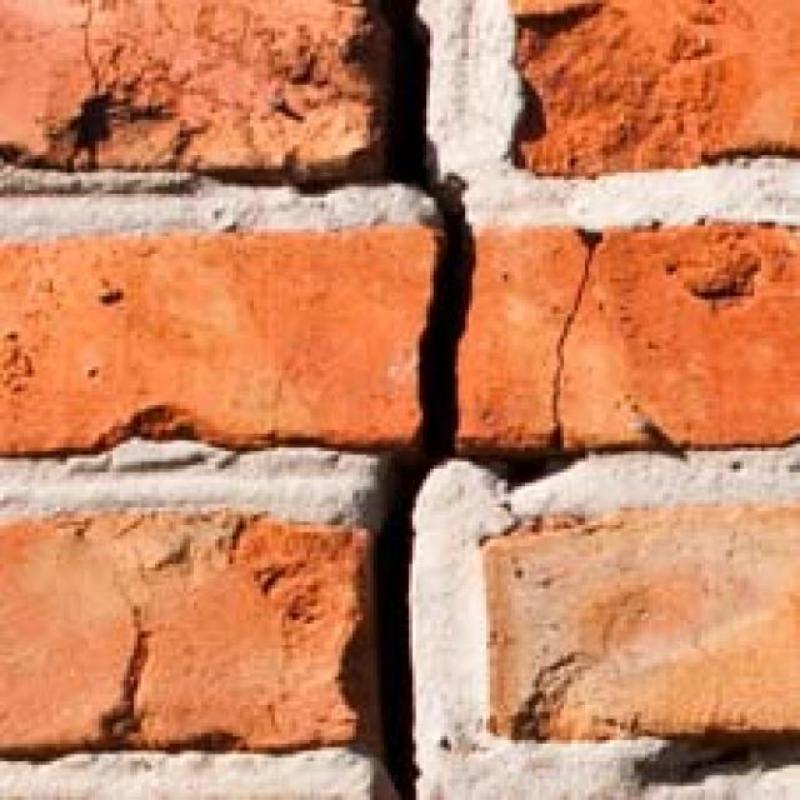crack: (367, 0, 475, 800), (464, 230, 603, 487)
